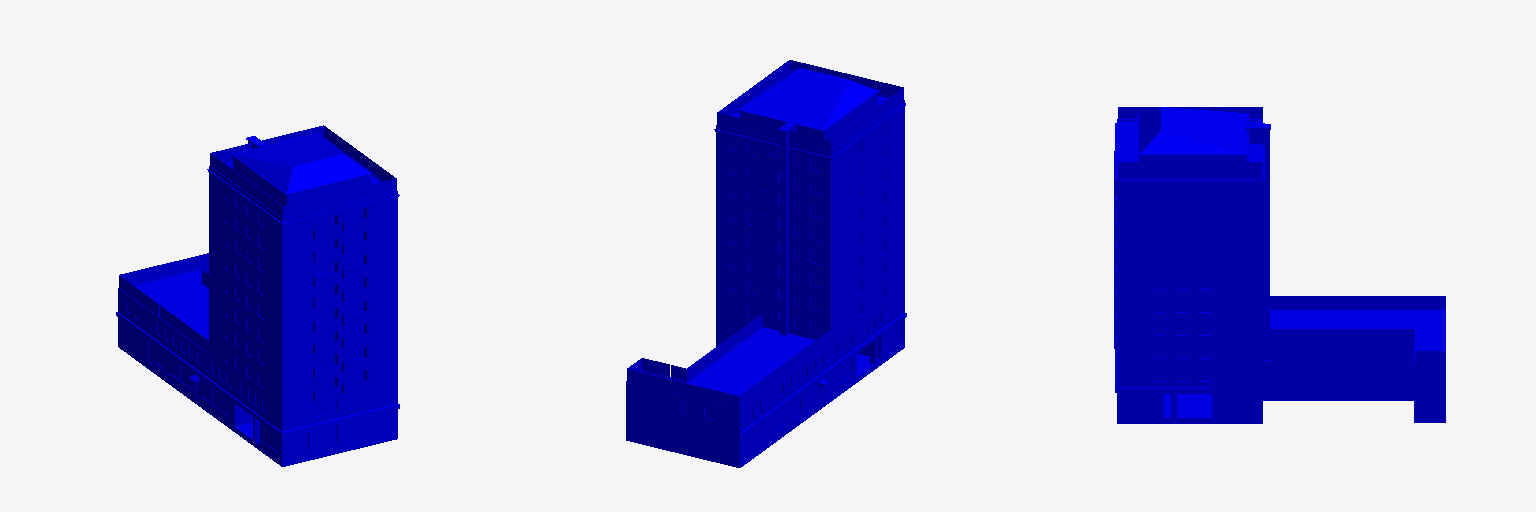
Rendered from kirkkokatu_9.obj.
3 views of the same model, side by side, from view 1: azimuth 30°, elevation 25°; view 2: azimuth 150°, elevation 25°; view 3: azimuth 270°, elevation 25° (orthographic).
Parts seen in each view (by area): view 1: Object_1; view 2: Object_1; view 3: Object_1.
Boxes of the visible parts, x1=… form: Object_1: x1=116, y1=125, x2=399, y2=466; Object_1: x1=626, y1=60, x2=906, y2=467; Object_1: x1=1114, y1=107, x2=1445, y2=423.
Bounding box in the file's own units: 17.33 × 37.23 × 40.55.